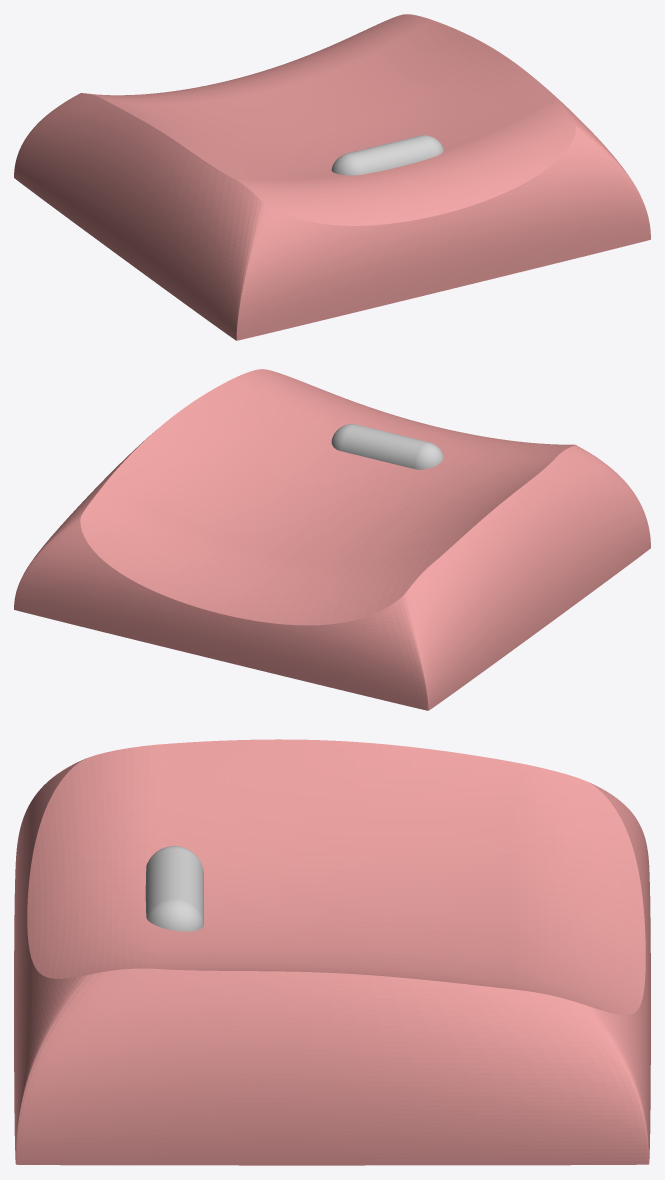
The model's file is MX-Chicago_Steno-Homing.gltf.
The picture shows the model from 3 angles, top to bottom: view 1: azimuth 30°, elevation 25°; view 2: azimuth 150°, elevation 25°; view 3: azimuth 270°, elevation 25°; orthographic projection. The views are drawn at different scales.
Parts seen in each view (by area): view 1: object 1, object 2; view 2: object 1, object 2; view 3: object 1, object 2.
Boxes of the visible parts, left/top/right/bottom form: object 1: left=14, top=14, right=650, bottom=340; object 2: left=331, top=135, right=443, bottom=175; object 1: left=14, top=369, right=650, bottom=710; object 2: left=331, top=424, right=443, bottom=469; object 1: left=14, top=739, right=650, bottom=1165; object 2: left=145, top=846, right=203, bottom=931.
Bounding box in the file's own units: 1.73 × 0.5717 × 1.61.
